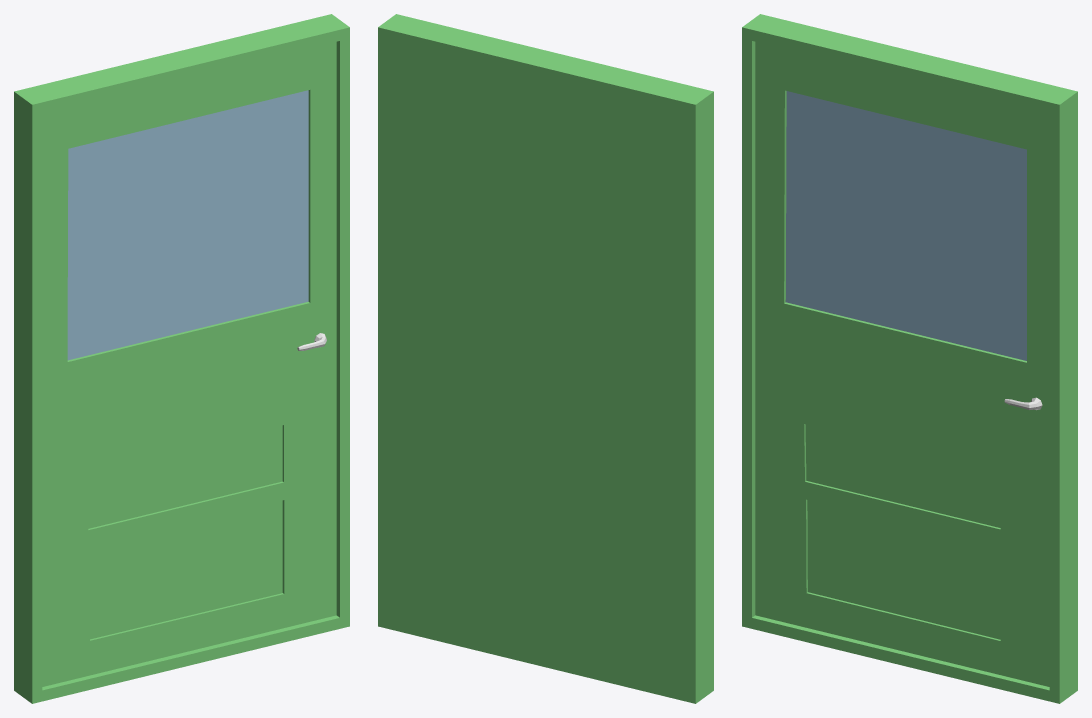
File: Green Door.glb
The picture shows the model from 3 angles, left to right: view 1: azimuth 30°, elevation 25°; view 2: azimuth 150°, elevation 25°; view 3: azimuth 330°, elevation 25°; orthographic projection.
Parts seen in each view (by area): view 1: Blue Door; view 2: Blue Door; view 3: Blue Door.
Part boxes in pixels (x1=…): Blue Door: x1=14, y1=14, x2=349, y2=703; Blue Door: x1=378, y1=14, x2=713, y2=703; Blue Door: x1=742, y1=14, x2=1077, y2=703.
Size of the model in its own units: 2 by 3.6 by 0.2295.
